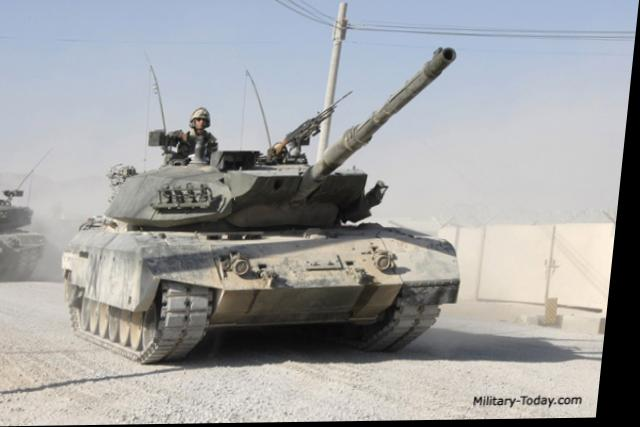other: (177, 87, 228, 169)
tank: (85, 147, 435, 359)
